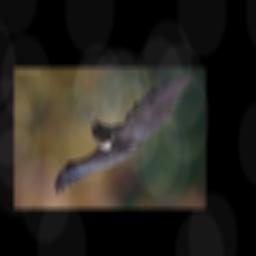Crow: (53, 71, 196, 197)
